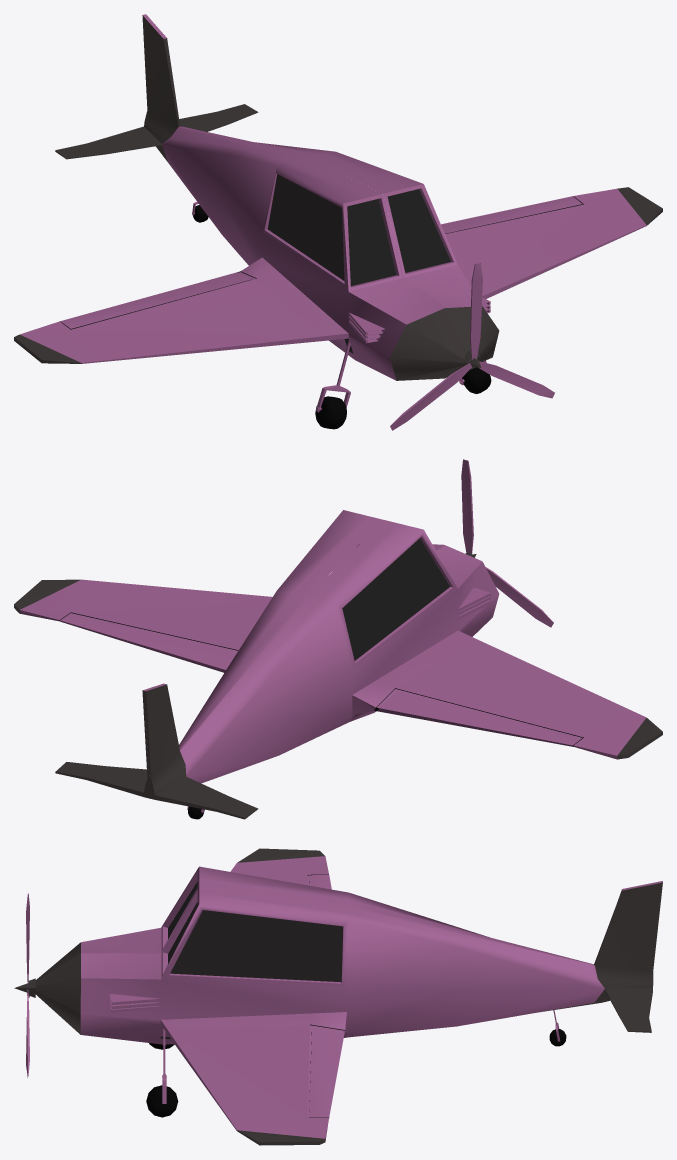
File: cartoon_Plane_pink_ytsis.glb
3 renders of one model, top to bottom at view 1: azimuth 30°, elevation 25°; view 2: azimuth 150°, elevation 25°; view 3: azimuth 270°, elevation 25°, orthographic. The views are drawn at different scales.
Parts seen in each view (by area): view 1: Cube_1_3, Cube_3, Propeller_1, Wheel_4; view 2: Cube_1_3, Cube_3, Propeller_1; view 3: Cube_1_3, Cube_3, Propeller_1, Wheel_2.
Boxes of the visible parts, x1=… form: Cube_1_3: x1=14, y1=14, x2=662, y2=380; Cube_3: x1=17, y1=38, x2=468, y2=380; Propeller_1: x1=390, y1=263, x2=554, y2=430; Wheel_4: x1=315, y1=396, x2=346, y2=429; Cube_1_3: x1=14, y1=510, x2=662, y2=819; Cube_3: x1=144, y1=534, x2=662, y2=819; Propeller_1: x1=461, y1=459, x2=553, y2=627; Cube_1_3: x1=35, y1=849, x2=662, y2=1145; Cube_3: x1=81, y1=848, x2=621, y2=964; Propeller_1: x1=14, y1=893, x2=35, y2=1077; Wheel_2: x1=146, y1=1085, x2=178, y2=1117.
Bounding box in the file's own units: 2.09 × 0.6676 × 1.96.
